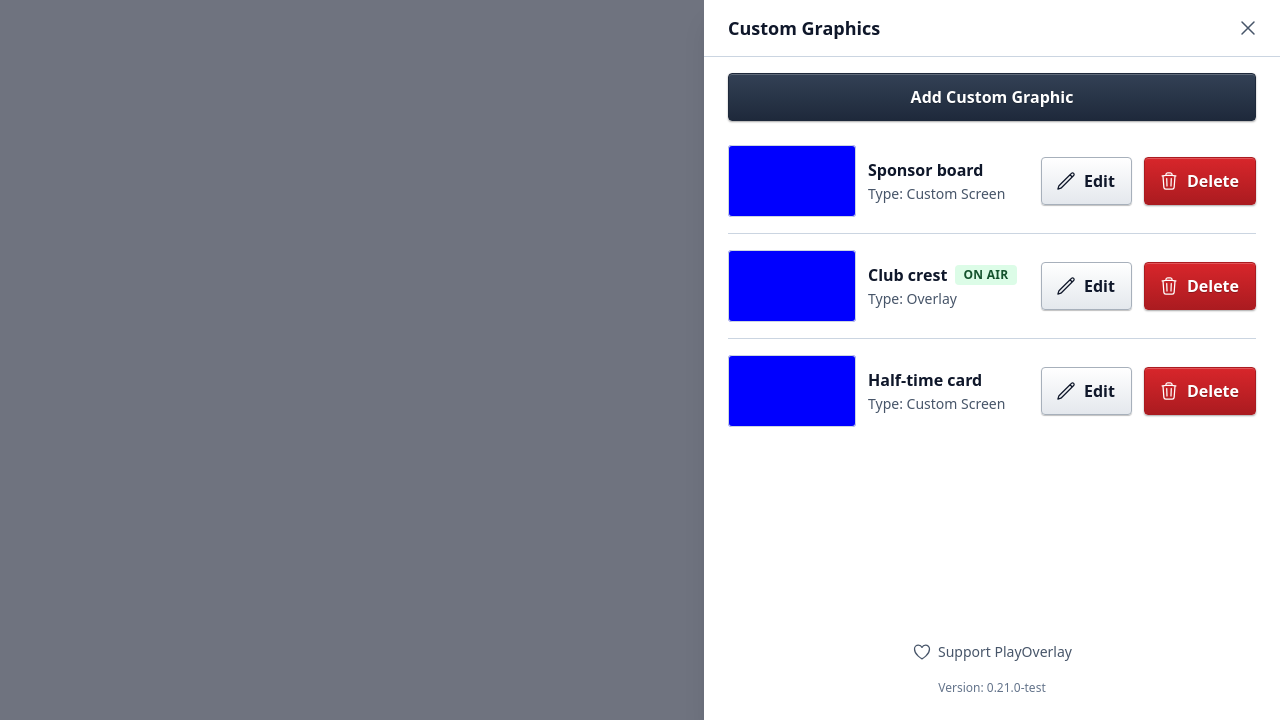
Test: CustomScreensMenu on-air indicator › warns in the delete confirmation that an on-air graphic will be taken off air
This screenshot has width=1280, height=720.
Click the button "Delete" in the row of "Club crest" at (1200, 286), box [1144, 262, 1256, 310]
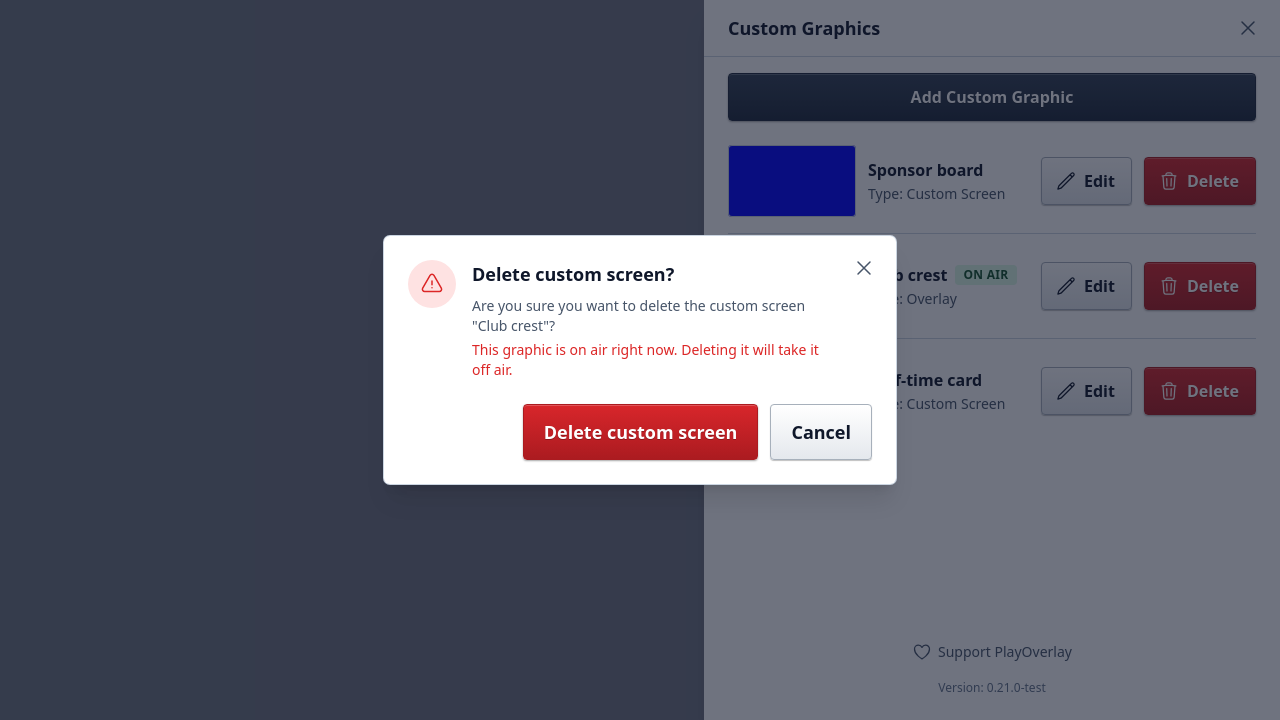
Now the text "This graphic is on air right now. Deleting it will take it off air." is shown, box [472, 340, 832, 380]
